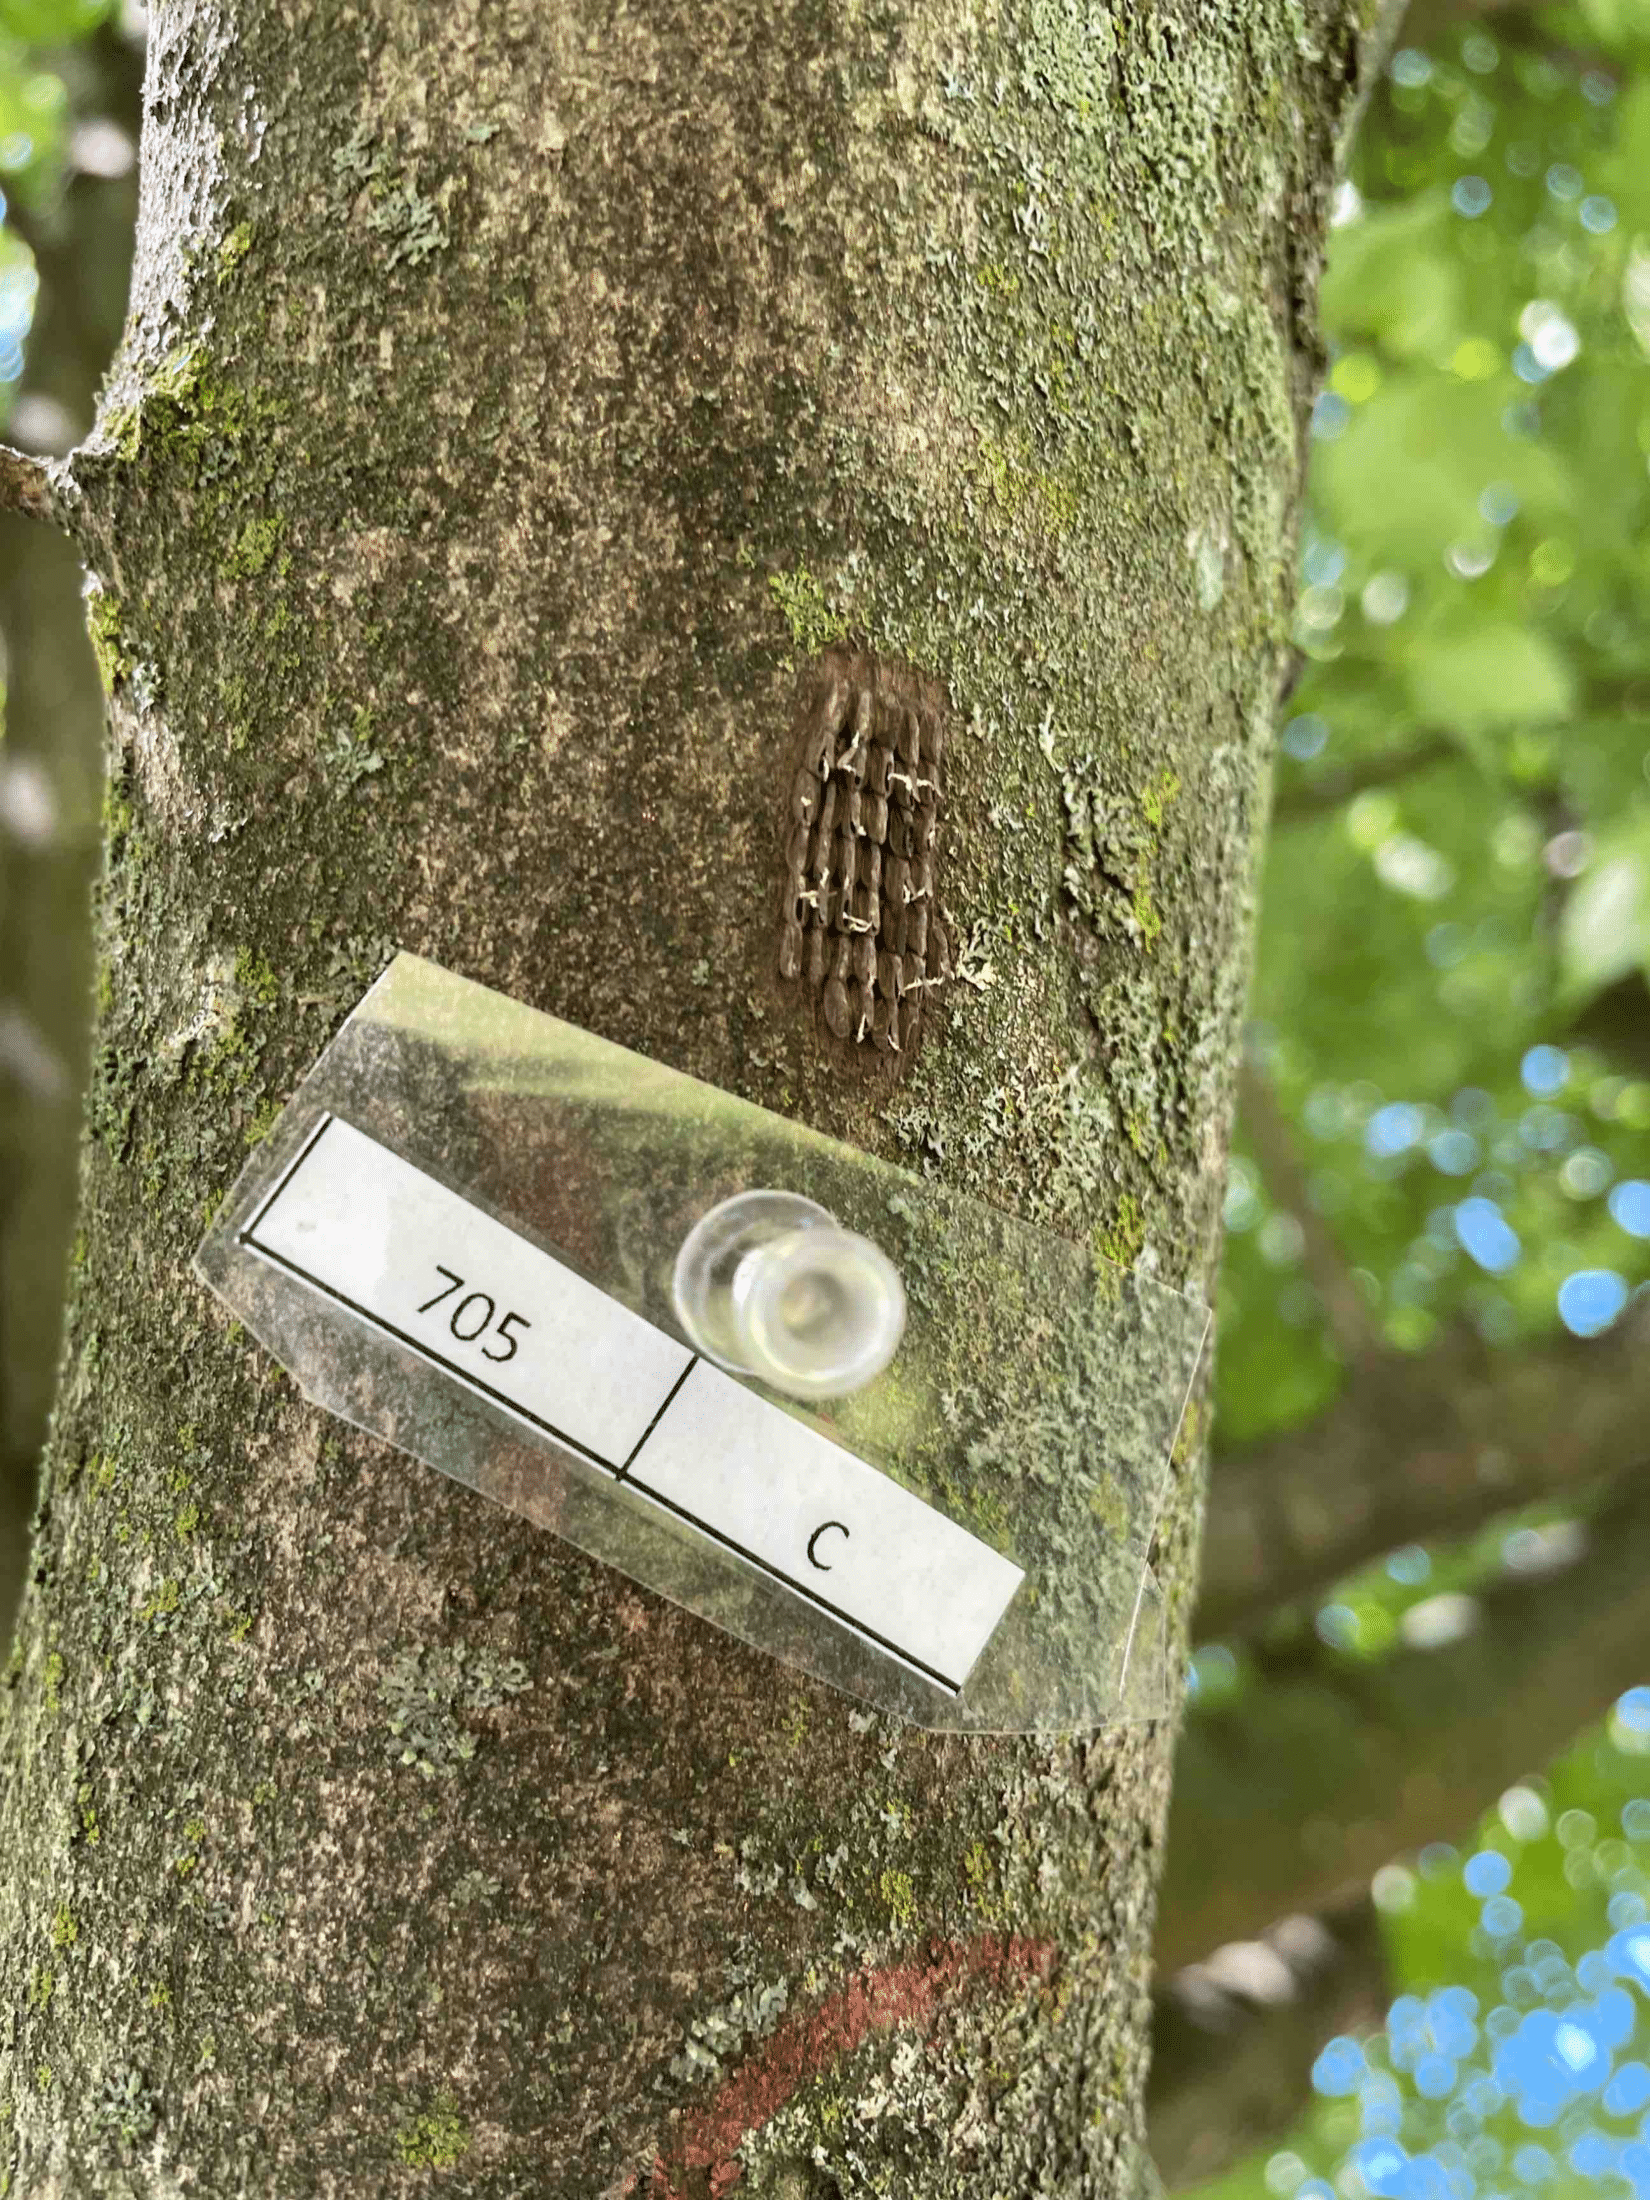egg masses: (790, 683, 926, 1069)
